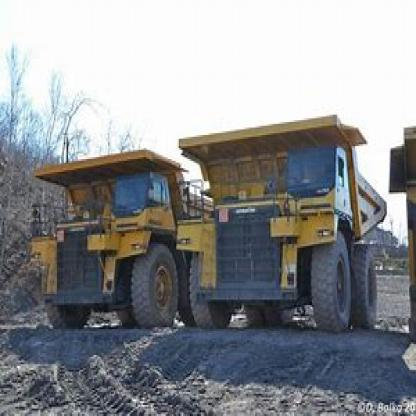dump_truck: (176, 113, 393, 338), (26, 142, 182, 326)
